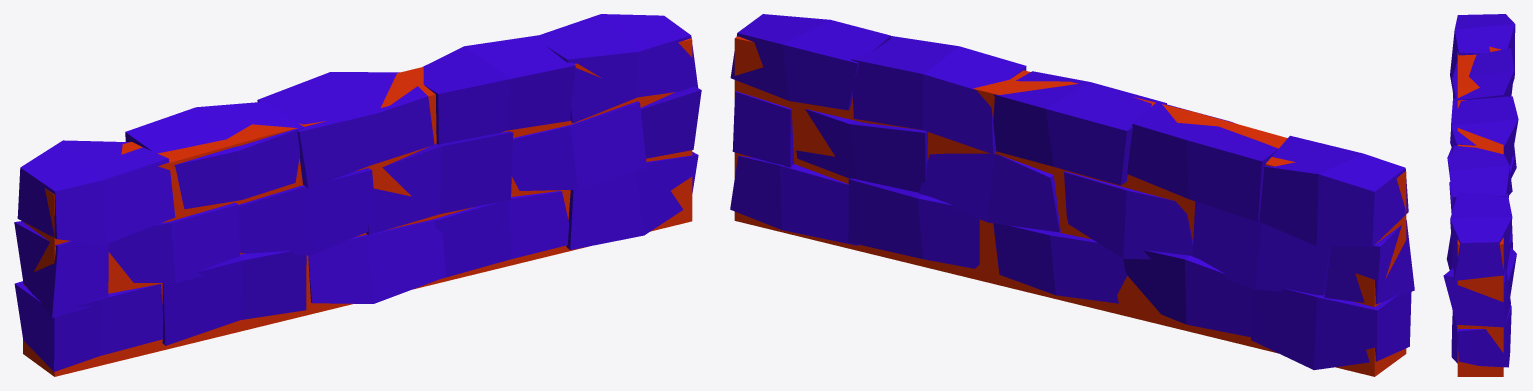
File: stone_wall_high.fbx
3 renders of one model, left to right at view 1: azimuth 30°, elevation 25°; view 2: azimuth 150°, elevation 25°; view 3: azimuth 270°, elevation 25°, orthographic. The views are drawn at different scales.
Parts seen in each view (by area): view 1: Stone_wall_high; view 2: Stone_wall_high; view 3: Stone_wall_high.
Part boxes in pixels (bbox=[...]): Stone_wall_high: bbox=[14, 14, 701, 376]; Stone_wall_high: bbox=[730, 14, 1414, 376]; Stone_wall_high: bbox=[1443, 14, 1518, 376].
Size of the model in its own units: 306 by 88.73 by 41.96.
